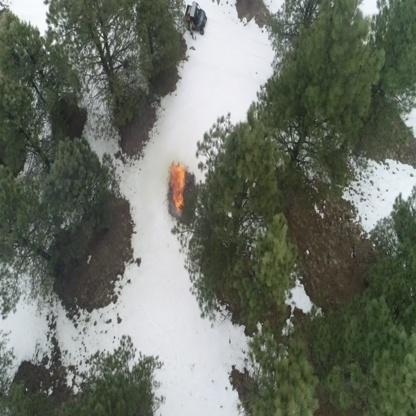Fire: (167, 160, 187, 215)
